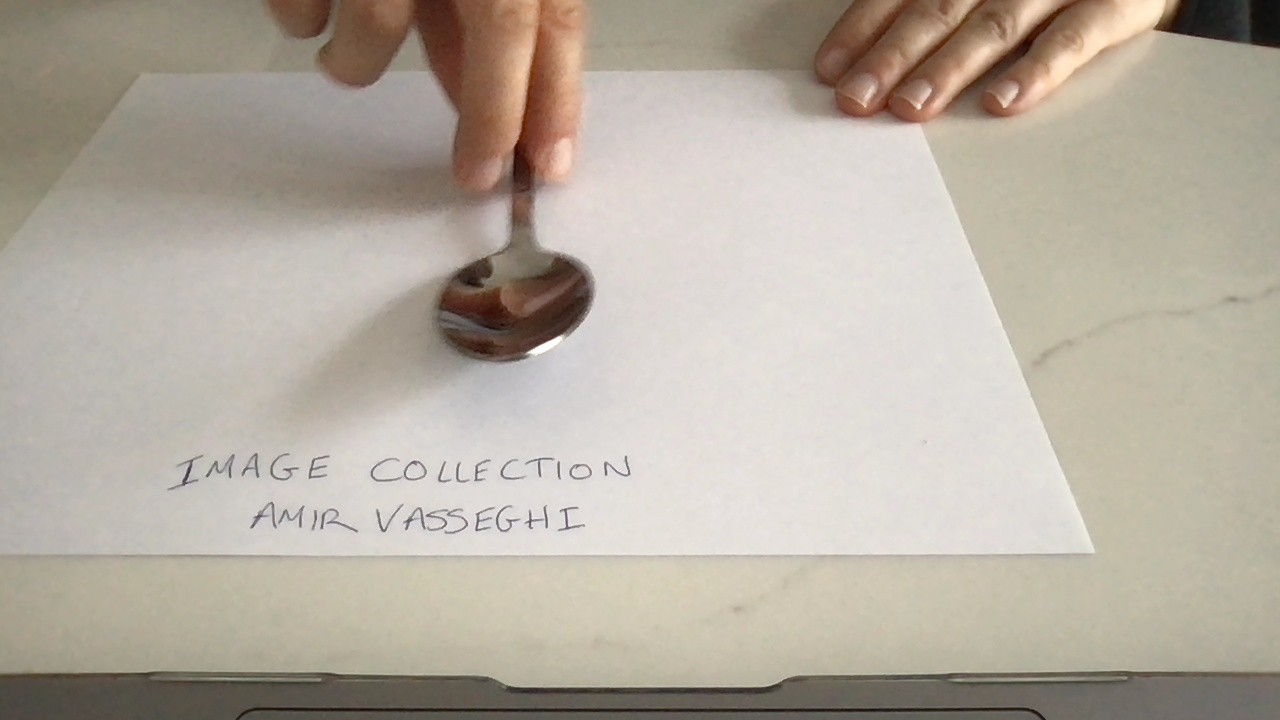spoon: (434, 199, 601, 365)
